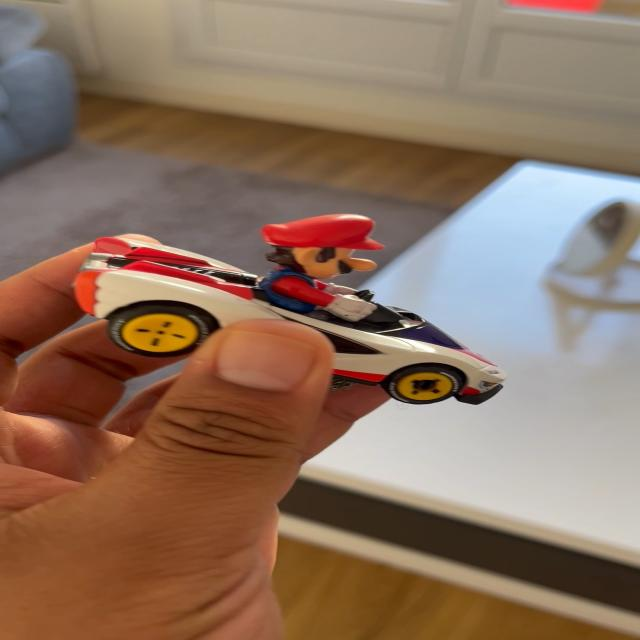mario: (57, 207, 522, 410)
